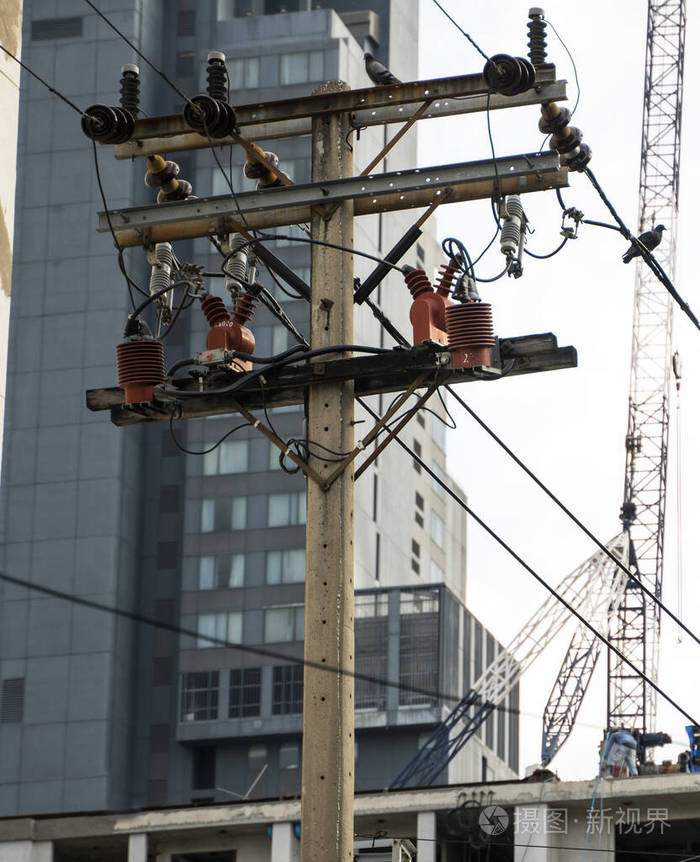insulator: (537, 103, 588, 170), (181, 96, 239, 140), (480, 55, 536, 99), (145, 163, 194, 206), (83, 105, 132, 144), (240, 150, 290, 186)
